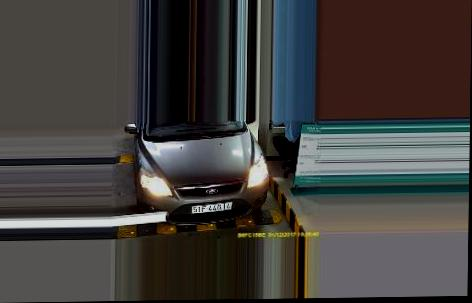License_Plate: (190, 199, 235, 215)
